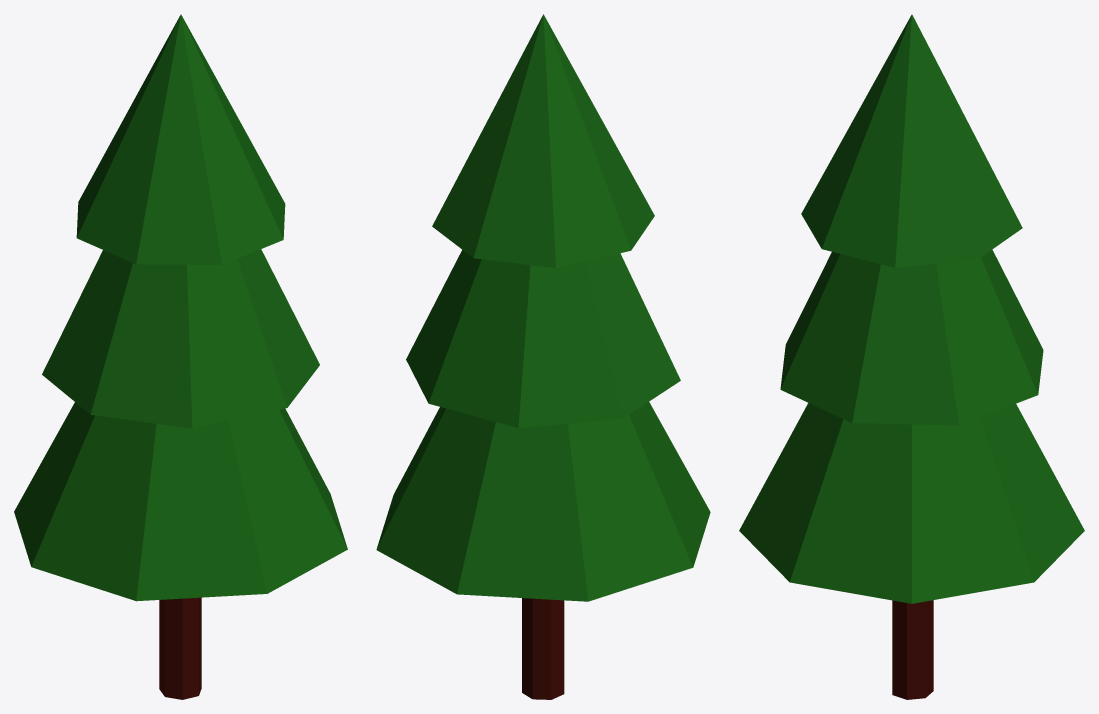
Rendered from fri_tree.obj.
3 renders of one model, left to right at view 1: azimuth 30°, elevation 25°; view 2: azimuth 150°, elevation 25°; view 3: azimuth 270°, elevation 25°, orthographic.
Parts seen in each view (by area): view 1: Cylinder.002; view 2: Cylinder.002; view 3: Cylinder.002.
Part boxes in pixels (x1,y1,x2,y2): Cylinder.002: (14, 14, 347, 699); Cylinder.002: (376, 14, 710, 699); Cylinder.002: (739, 14, 1084, 699).
Size of the model in its own units: 1.09 by 2.35 by 1.09.
